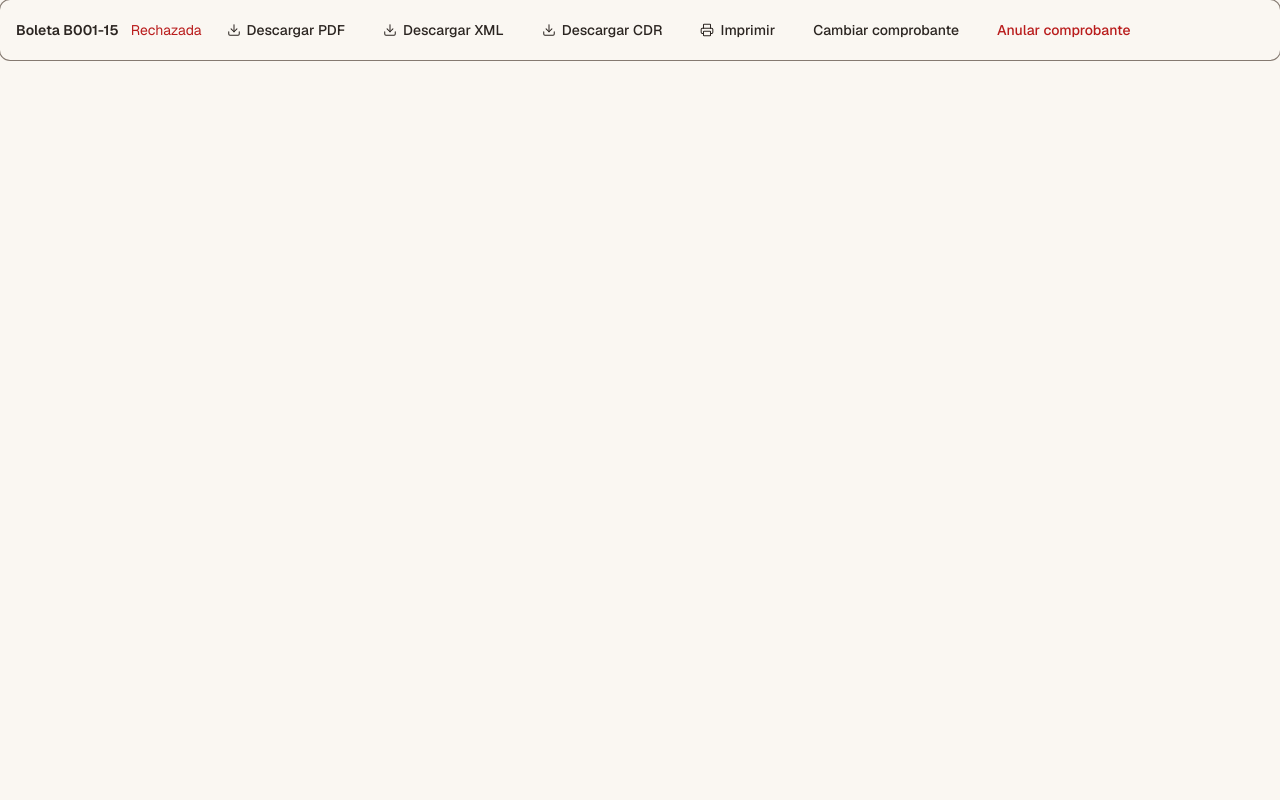
Anular un comprobante según su estado › rechazado: también se anula sin nota, y lo explica
What coordinates should you click on to do the following:
click the button "Anular comprobante"
I would click on:
 (1064, 30)
Its box is [984,12,1144,48].
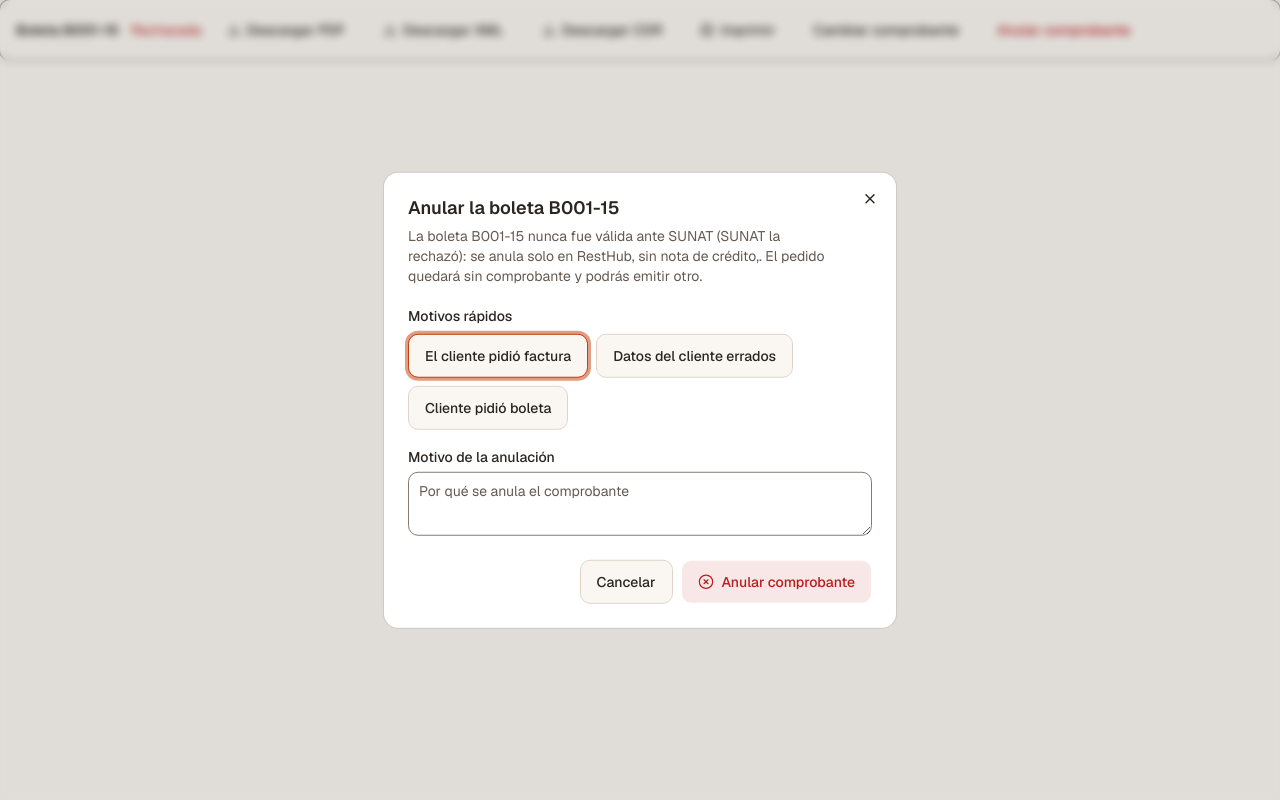
Expected: the text "nunca fue válida ante SUNAT (SUNAT la rechazó)" is shown, [408,226,824,284]
